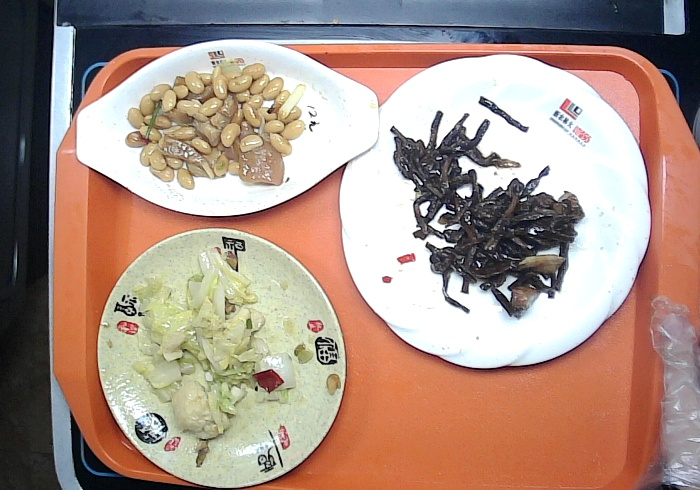NLDX-Bai_Zhe_Yuan_Pan: (334, 49, 653, 375)
NLDX-Fu_Zi_Yuan_Pan: (93, 225, 352, 490)
NLDX-Yu_Pan: (67, 35, 385, 220)
